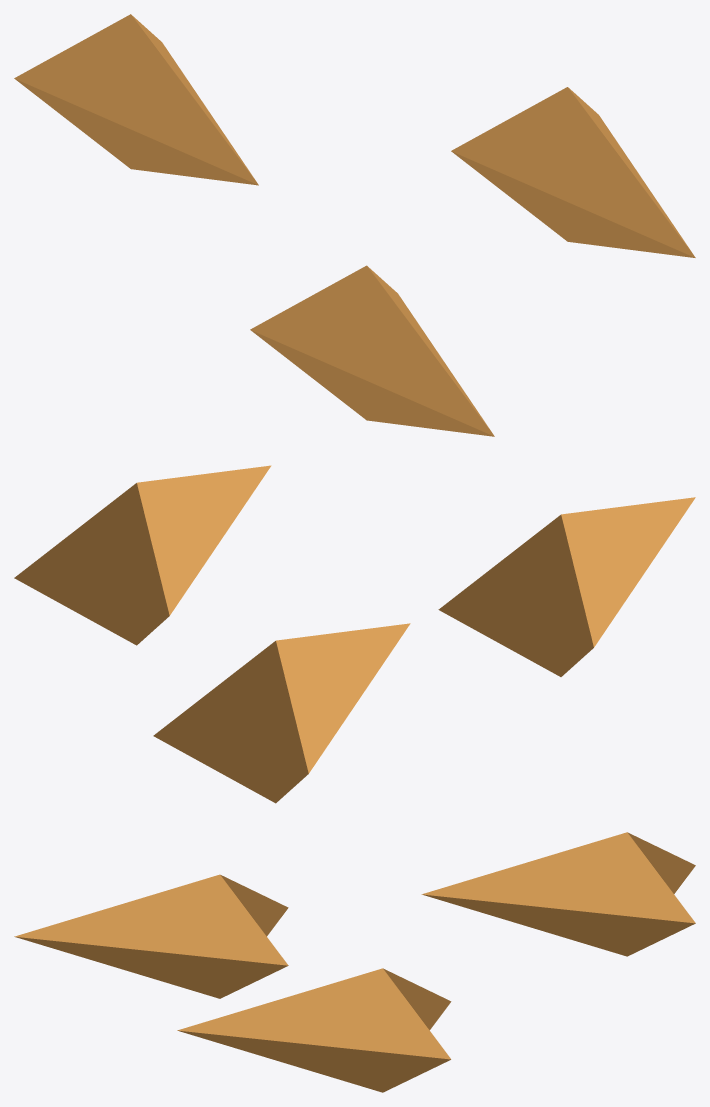
File: BronzeArrowheadStack3.glb
3 views of the same model, one above another, from view 1: azimuth 30°, elevation 25°; view 2: azimuth 150°, elevation 25°; view 3: azimuth 270°, elevation 25° (orthographic). The views are drawn at different scales.
Visible parts, largest first — view 1: BronzeArrowheadStack3; view 2: BronzeArrowheadStack3; view 3: BronzeArrowheadStack3.
Boxes of the visible parts, x1,y1,x2,y2 form: BronzeArrowheadStack3: (14,14,695,436); BronzeArrowheadStack3: (14,465,695,803); BronzeArrowheadStack3: (14,832,695,1092).
Bounding box in the file's own units: 0.1538 × 0.0706 × 0.2511.
